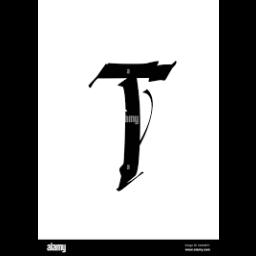t: (85, 52, 181, 196)
